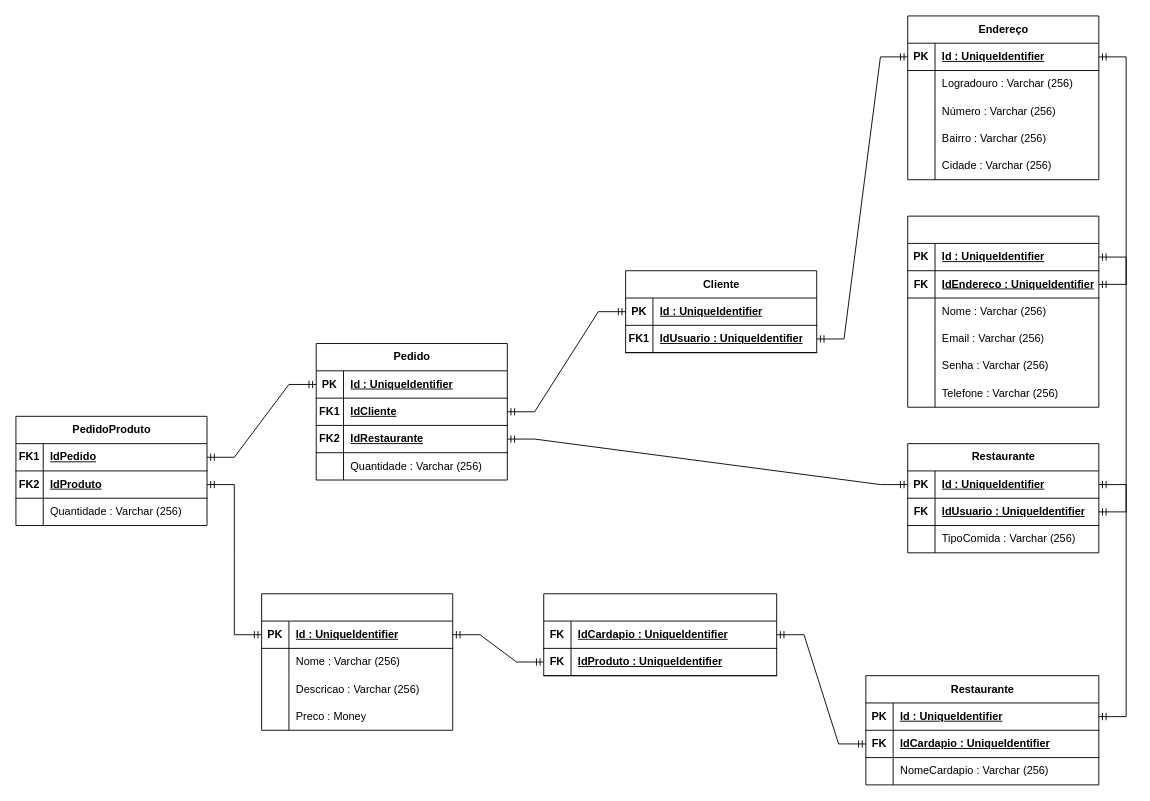
This 1150x801 diagram has some shape labels left out. The shapes that lost their labels are listed below. From the top down, each one's box as (x1, y1, x2, y2) in pixels, then its label:
(907, 215, 1099, 407): Usuário
(543, 593, 777, 676): CardapioProduto
(261, 593, 453, 730): Produto
